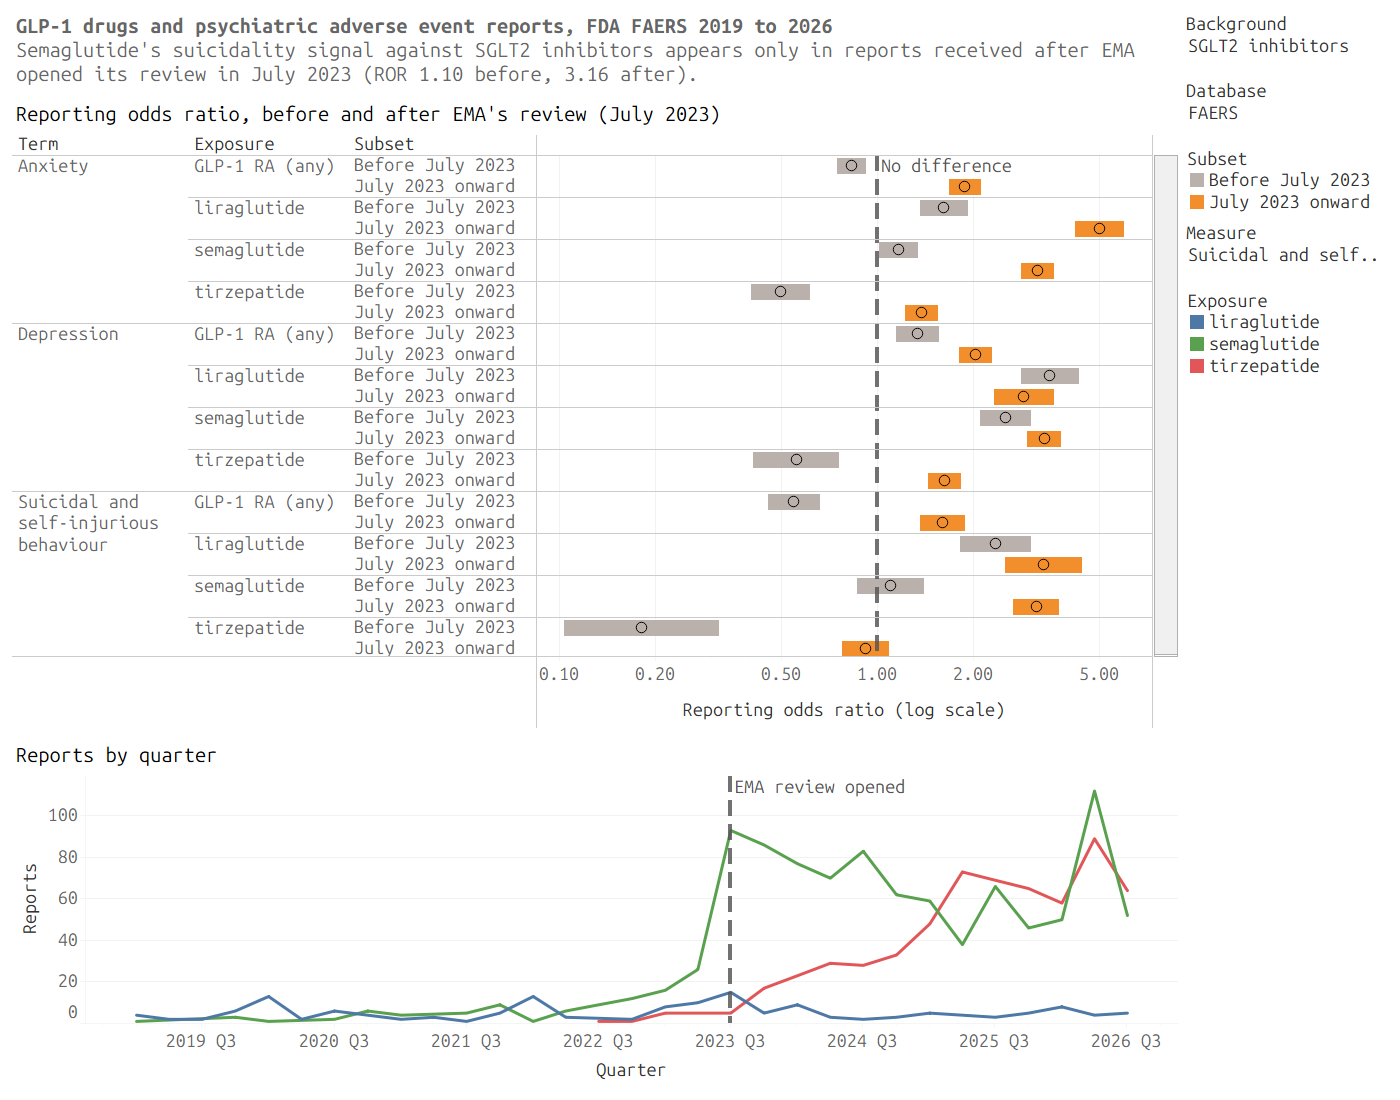

This screenshot's page, from the dashboard's own definition file:
{"tool":"tableau","page":{"name":"GLP-1 psychiatric signals","canvas":[1400,1100],"ordinal":0},"visuals":[{"type":"text","box":[8,8,1187,84]},{"type":"filter","title":"Before and after","param":"[federated.1qhq31e10xu5c41e6xd1d1pdsw35].[none:background:nk]","box":[1195,8,197,67]},{"type":"filter","title":"Before and after","param":"[federated.1qhq31e10xu5c41e6xd1d1pdsw35].[none:database:nk]","box":[1195,75,197,67]},{"type":"worksheet","title":"Before and after","mark":"GanttBar","rows":["term","exposure","period"],"cols":["ror_lo","ror"],"box":[8,92,1187,641]},{"type":"legend","title":"Before and after","param":"[federated.1qhq31e10xu5c41e6xd1d1pdsw35].[none:period:nk]","box":[1195,142,197,75]},{"type":"filter","title":"Reports per quarter","param":"[federated.0y1i65216ovb9414ffqay0pqj22x].[none:measure:nk]","box":[1195,217,197,67]},{"type":"legend","title":"Reports per quarter","param":"[federated.0y1i65216ovb9414ffqay0pqj22x].[none:exposure:nk]","box":[1195,284,197,97]},{"type":"worksheet","title":"Reports per quarter","mark":"Line","rows":["reports"],"cols":["Calculation_2085837943255040"],"box":[8,733,1187,359]}]}

Visuals, with their boxes in screenshot pixels (x1, y1, x2, y2), scaled from the page's 1400x1100 canvas onto the 1400x1100 screenshot:
text: (8,8,1195,92)
"Before and after" filter: (1195,8,1392,75)
"Before and after" filter: (1195,75,1392,142)
"Before and after" worksheet (GanttBar marks): (8,92,1195,733)
"Before and after" legend: (1195,142,1392,217)
"Reports per quarter" filter: (1195,217,1392,284)
"Reports per quarter" legend: (1195,284,1392,381)
"Reports per quarter" worksheet (Line marks): (8,733,1195,1092)
